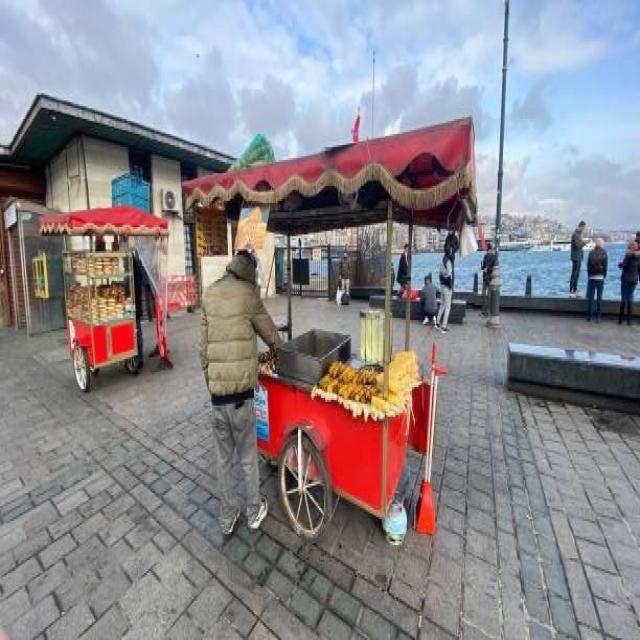Emperan: (179, 103, 483, 562), (27, 201, 174, 396)
